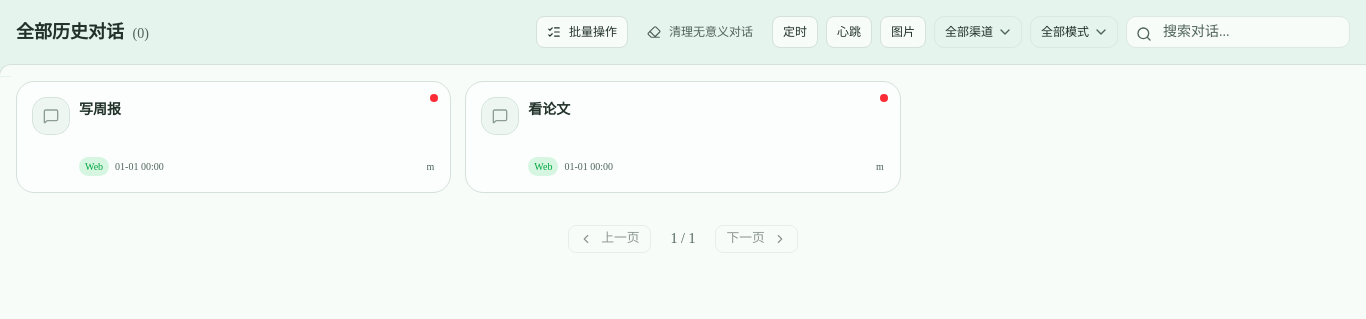
Scenario: 全部对话页 · 批量操作 › 标记完成：把选中的 id 透传，并提示 updated 数
Expected: the heading "写周报" is shown, [79,102,121,117]
Click the button titled "进入批量操作": {"x": 582, "y": 32} [536,16,628,48]
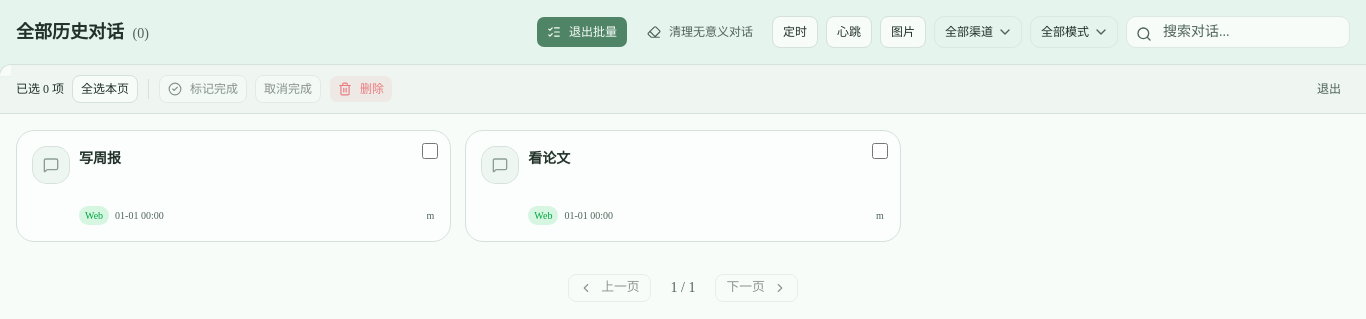
Click the checkbox named "选择对话" in the row of "写周报": {"x": 430, "y": 151} [422,143,438,159]
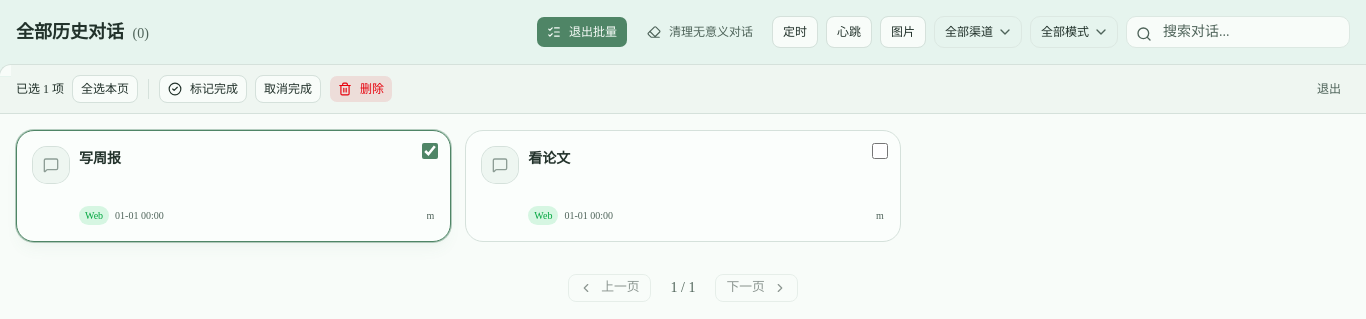
Click the checkbox named "选择对话" in the row of "看论文": {"x": 880, "y": 151} [872,143,888,159]
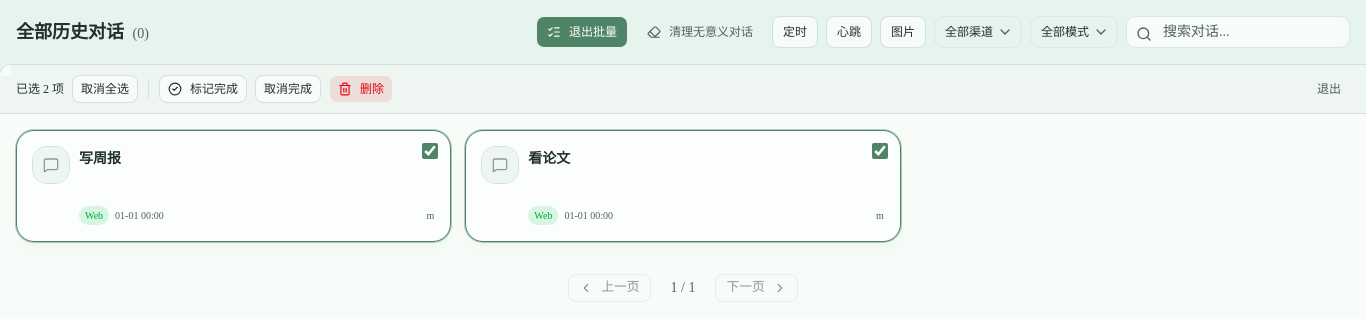
Click the button "标记完成": {"x": 203, "y": 89} [159,75,247,103]
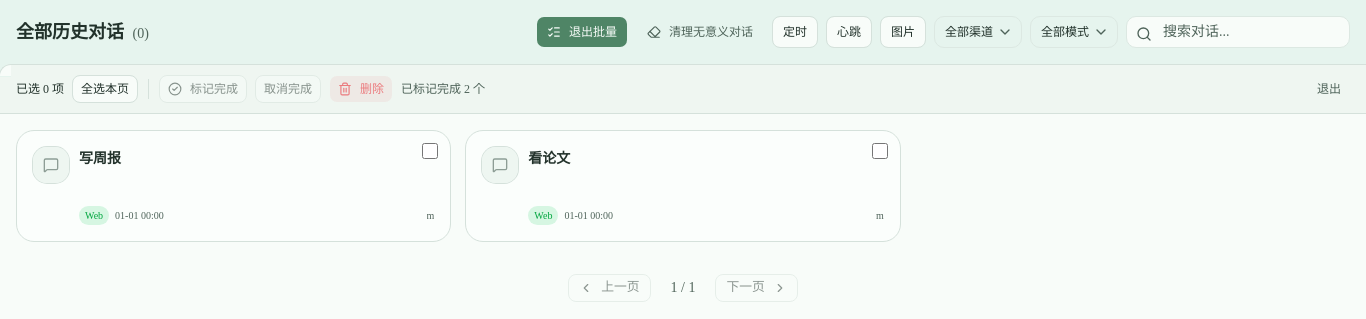
Now the text "已标记完成 2 个" is shown, box [401,81,485,97]
